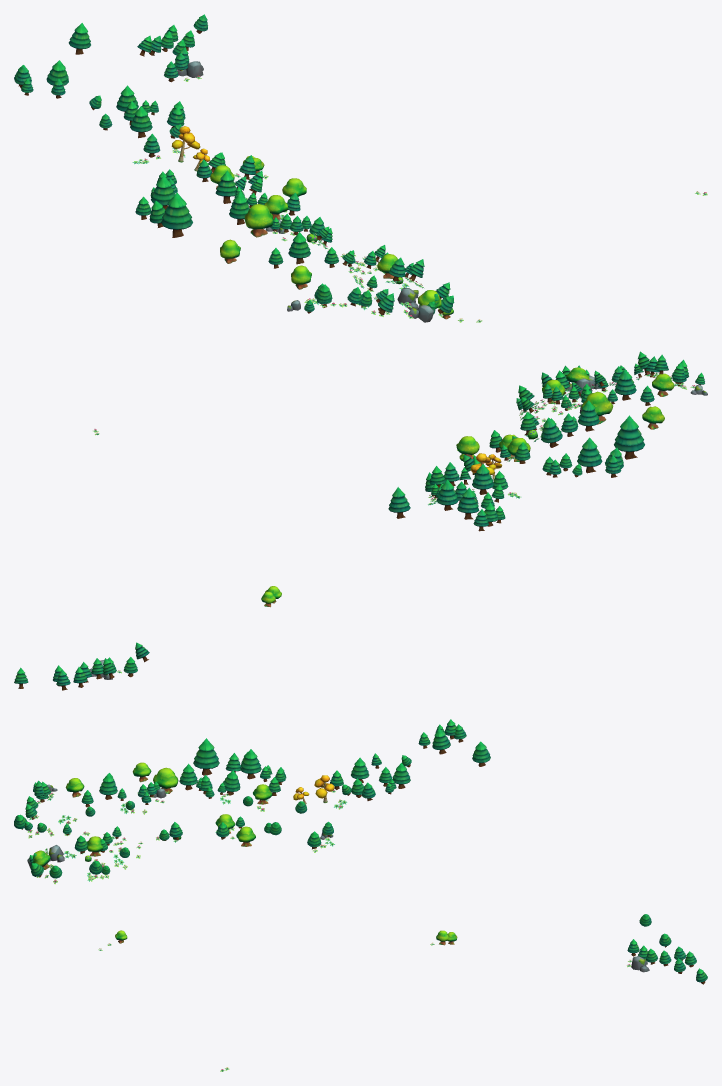
Rendered from map_decor.glb.
The picture shows the model from 3 angles, top to bottom: view 1: azimuth 30°, elevation 25°; view 2: azimuth 150°, elevation 25°; view 3: azimuth 270°, elevation 25°; orthographic projection. The views are drawn at different scales.
Visible parts, largest first — view 1: decor_nodelete; view 2: decor_nodelete; view 3: decor_nodelete.
Part boxes in pixels (left/top/right/bottom): decor_nodelete: left=14, top=14, right=707, bottom=322; decor_nodelete: left=14, top=351, right=707, bottom=690; decor_nodelete: left=14, top=719, right=707, bottom=1071.
Size of the model in its own units: 241 by 71.27 by 315.
1 material, 1 textured.
